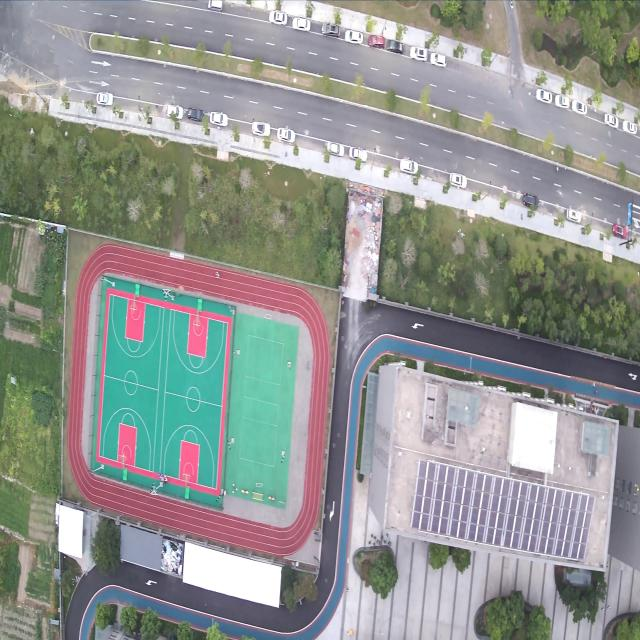UAV: (197, 191, 206, 200)
